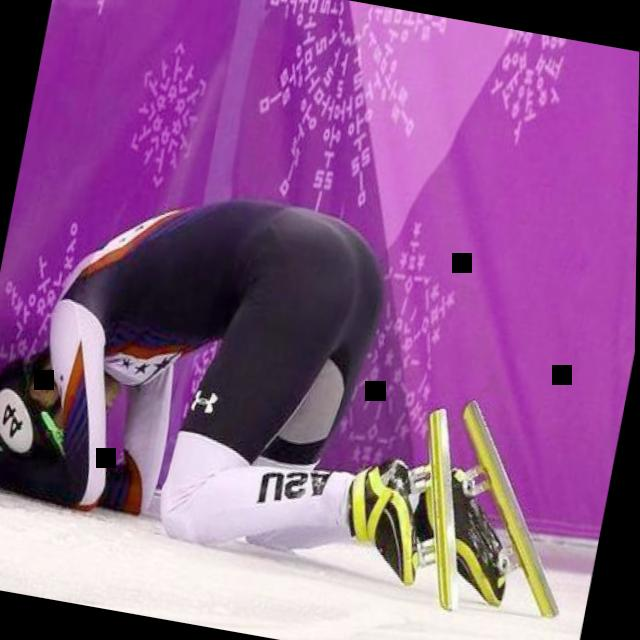Fall-Detected: (0, 132, 527, 609)
